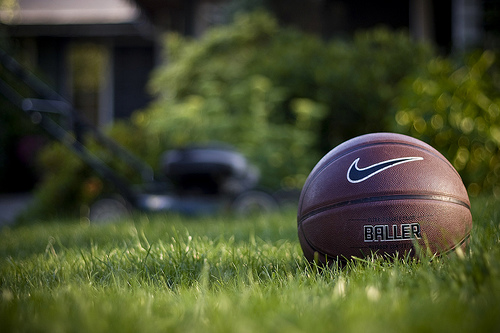basketball: (297, 132, 472, 272)
